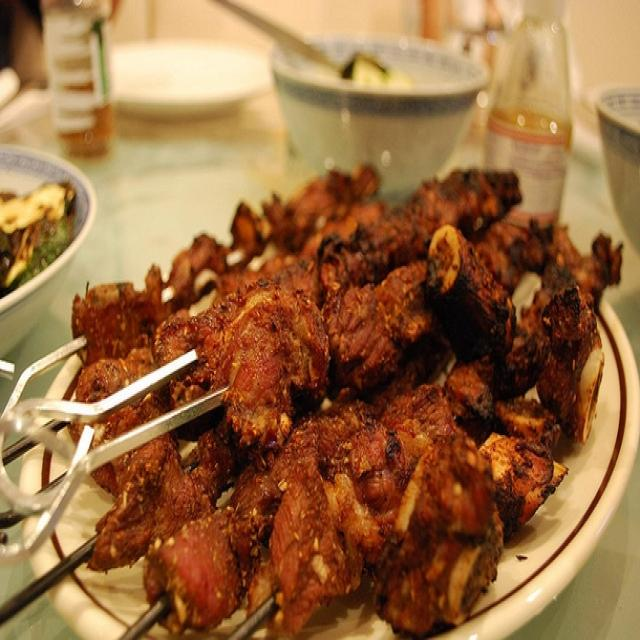烧串烤肉: (25, 100, 612, 623)
